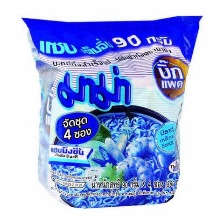snack: (14, 9, 207, 215)
